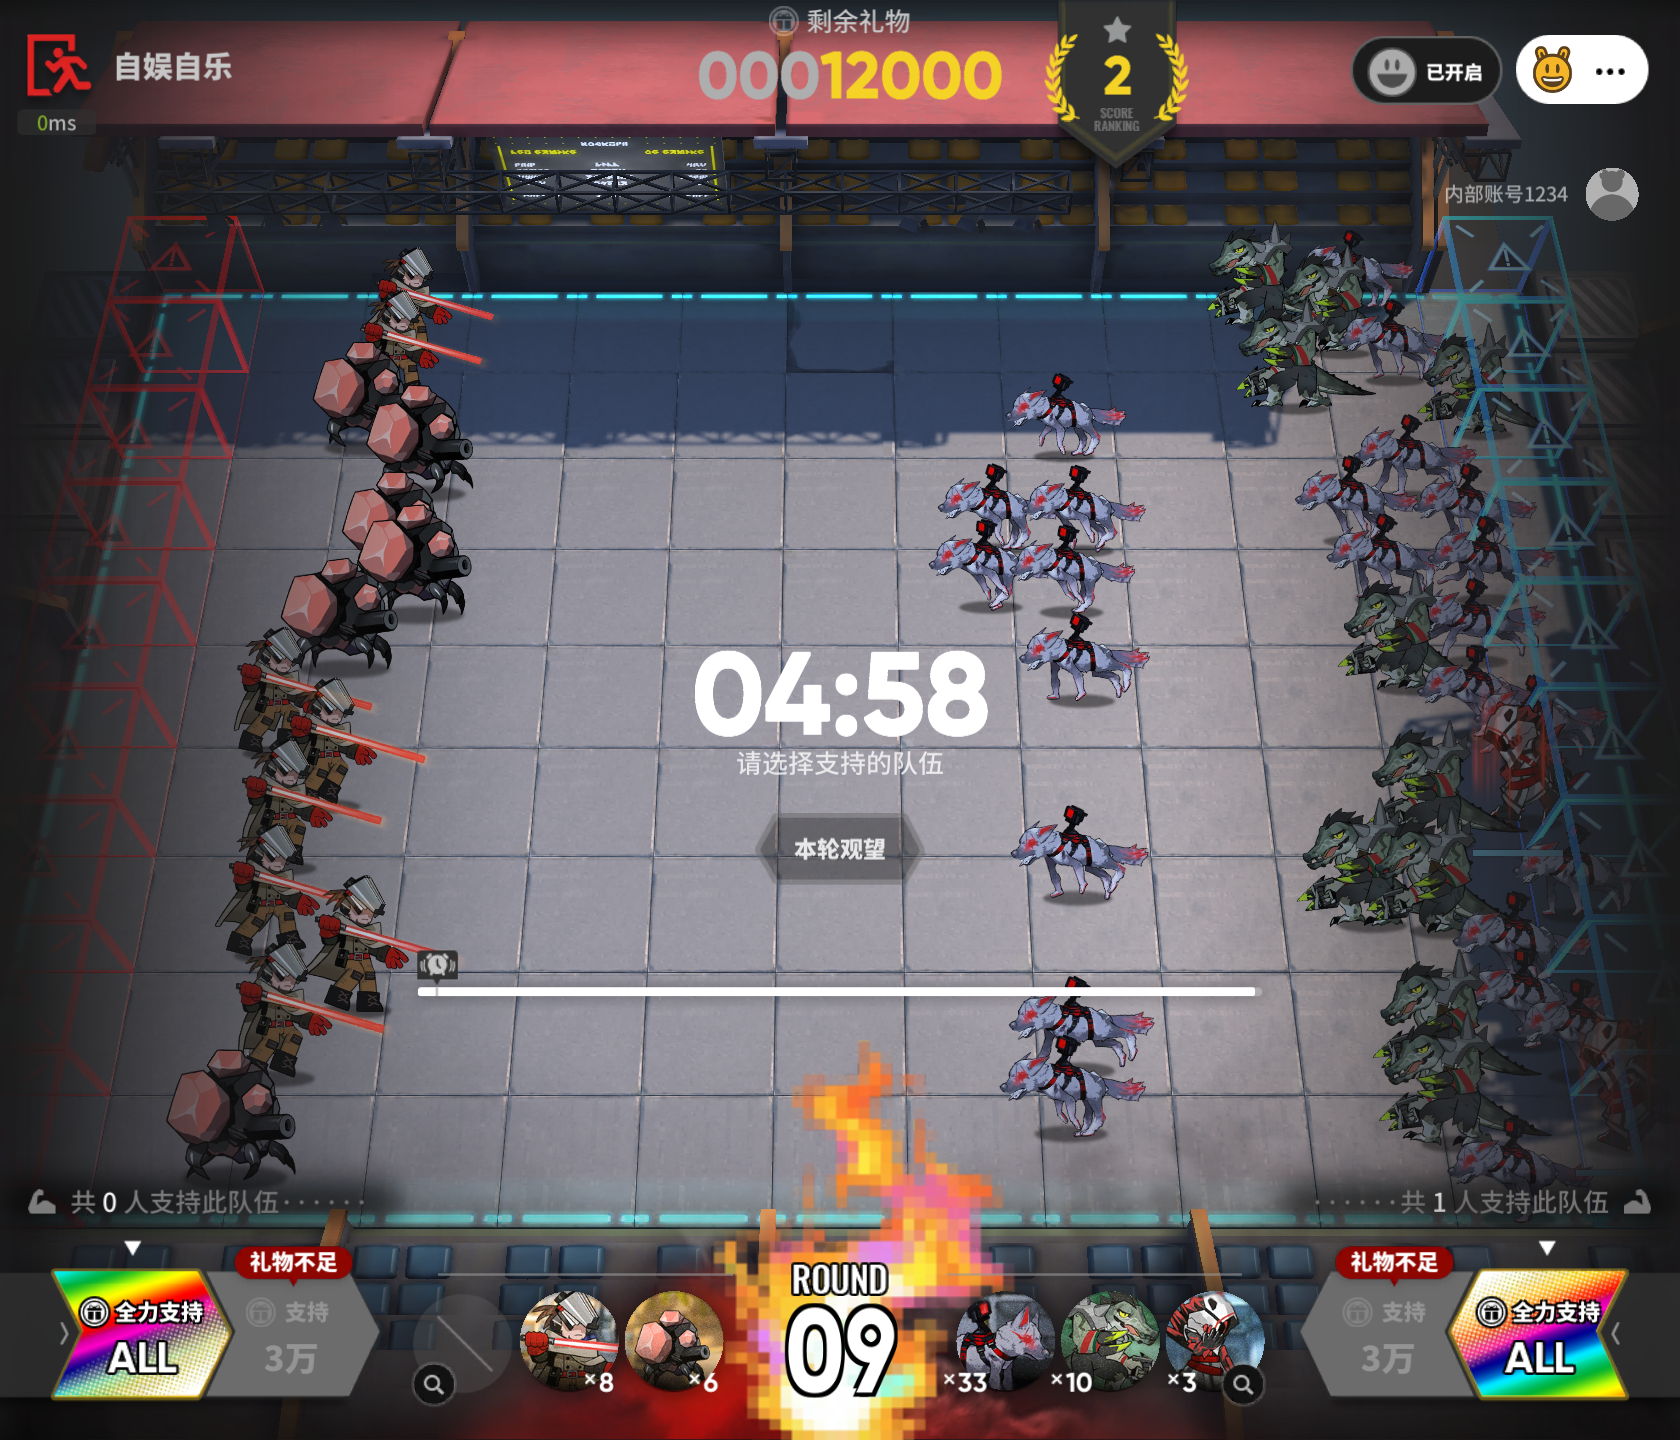大喷蛛: (164, 1034, 316, 1181), (316, 333, 433, 451), (339, 466, 459, 580), (371, 386, 486, 503), (620, 1281, 734, 1397), (284, 561, 394, 676), (367, 509, 479, 619)
弧光武士: (211, 944, 383, 1084), (364, 223, 509, 367), (249, 729, 390, 869), (226, 611, 371, 747), (274, 674, 426, 800), (309, 881, 451, 1001), (226, 826, 350, 947), (364, 294, 489, 401), (521, 1289, 626, 1399)
狗Pro: (1009, 974, 1154, 1069), (1010, 804, 1149, 900), (1447, 1124, 1590, 1216), (999, 1053, 1146, 1139), (1019, 611, 1150, 701), (1011, 526, 1136, 613), (954, 1289, 1059, 1391), (1349, 413, 1476, 496), (1519, 989, 1646, 1071), (1026, 464, 1146, 551), (1006, 371, 1126, 457), (1293, 454, 1414, 537), (1429, 513, 1553, 591), (1407, 470, 1544, 540), (1296, 230, 1411, 313), (1473, 956, 1574, 1049), (1431, 579, 1546, 660), (1427, 637, 1534, 723), (1513, 839, 1631, 916), (1326, 511, 1433, 596), (1451, 890, 1554, 974), (1336, 297, 1436, 380), (929, 519, 1019, 610), (937, 463, 1031, 550), (1496, 673, 1609, 744)
窃笑鳄鱼: (1367, 949, 1547, 1089), (1391, 1021, 1559, 1151), (1374, 711, 1517, 843), (1281, 794, 1401, 931), (1334, 576, 1471, 694), (1374, 807, 1494, 934), (1421, 323, 1554, 437), (1241, 307, 1383, 414), (1293, 253, 1400, 383), (1054, 1289, 1174, 1391), (1211, 226, 1304, 324)
苦难的具象: (1574, 1016, 1680, 1174), (1476, 696, 1581, 841), (1167, 1286, 1269, 1391)
